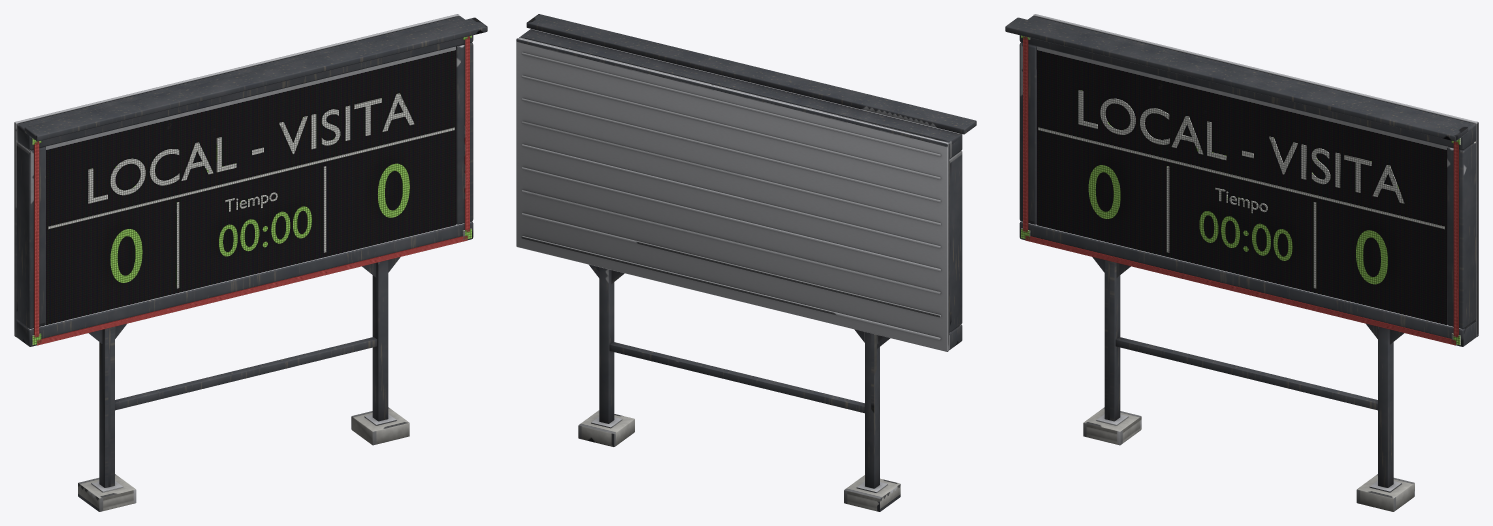
File: marcador.obj
3 renders of one model, left to right at view 1: azimuth 30°, elevation 25°; view 2: azimuth 150°, elevation 25°; view 3: azimuth 330°, elevation 25°, orthographic. The views are drawn at different scales.
Parts seen in each view (by area): view 1: Screen_Panel, Scoreboard_Frame, Details_Visor, Details_Bands, Screen_Title, travesano, poste_2, poste_1, Screen_Lines, Scoreboard_Back, Screen_Clock_cuadro1, dado_concreto_2 (+3 smaller); view 2: Scoreboard_Back, Scoreboard_Frame, Details_Visor, travesano, poste_2, poste_1, nervadura_3, nervadura_4, nervadura_6, nervadura_5, nervadura_7, nervadura_8 (+5 smaller); view 3: Screen_Panel, Scoreboard_Frame, Details_Visor, Details_Bands, Screen_Title, travesano, poste_1, poste_2, Screen_Lines, Scoreboard_Back, Screen_Clock_cuadro1, dado_concreto_1 (+3 smaller).
Part boxes in pixels (x1=…): Screen_Panel: x1=45, y1=46, x2=455, y2=325; Scoreboard_Frame: x1=16, y1=16, x2=473, y2=346; Details_Visor: x1=24, y1=17, x2=487, y2=141; Details_Bands: x1=34, y1=36, x2=469, y2=345; Screen_Title: x1=88, y1=93, x2=414, y2=203; travesano: x1=115, y1=337, x2=377, y2=410; poste_2: x1=372, y1=260, x2=388, y2=421; poste_1: x1=99, y1=326, x2=114, y2=487; Screen_Lines: x1=48, y1=127, x2=454, y2=288; Scoreboard_Back: x1=14, y1=14, x2=459, y2=337; Screen_Clock_cuadro1: x1=219, y1=206, x2=311, y2=256; dado_concreto_2: x1=351, y1=407, x2=409, y2=445; Scoreboard_Back: x1=516, y1=38, x2=949, y2=351; Scoreboard_Frame: x1=519, y1=29, x2=962, y2=349; Details_Visor: x1=526, y1=14, x2=976, y2=134; travesano: x1=609, y1=342, x2=864, y2=413; poste_2: x1=599, y1=267, x2=614, y2=423; poste_1: x1=865, y1=332, x2=879, y2=488; nervadura_3: x1=521, y1=167, x2=940, y2=271; nervadura_4: x1=521, y1=144, x2=940, y2=248; nervadura_6: x1=521, y1=98, x2=940, y2=202; nervadura_5: x1=521, y1=121, x2=940, y2=225; nervadura_7: x1=521, y1=75, x2=940, y2=179; nervadura_8: x1=521, y1=52, x2=940, y2=156; Screen_Panel: x1=1037, y1=46, x2=1447, y2=325; Scoreboard_Frame: x1=1019, y1=16, x2=1476, y2=346; Details_Visor: x1=1005, y1=17, x2=1468, y2=141; Details_Bands: x1=1023, y1=36, x2=1458, y2=345; Screen_Title: x1=1078, y1=90, x2=1404, y2=203; travesano: x1=1115, y1=337, x2=1377, y2=410; poste_1: x1=1104, y1=260, x2=1120, y2=421; poste_2: x1=1378, y1=326, x2=1393, y2=487; Screen_Lines: x1=1038, y1=127, x2=1444, y2=288; Scoreboard_Back: x1=1033, y1=14, x2=1478, y2=337; Screen_Clock_cuadro1: x1=1199, y1=211, x2=1292, y2=260; dado_concreto_1: x1=1083, y1=407, x2=1141, y2=445.
Bounding box in the file's own units: 13.2 × 11.16 × 1.5.
2 materials, 2 textured.
